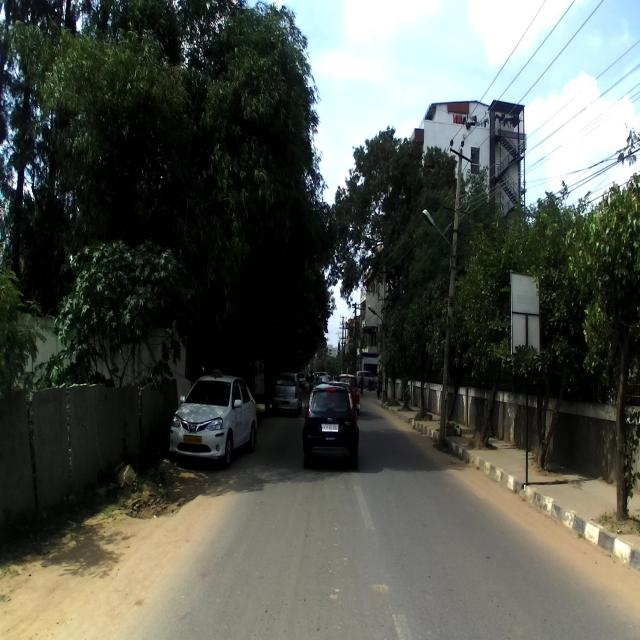car: (168, 369, 256, 464), (302, 380, 362, 470), (273, 371, 299, 419)
